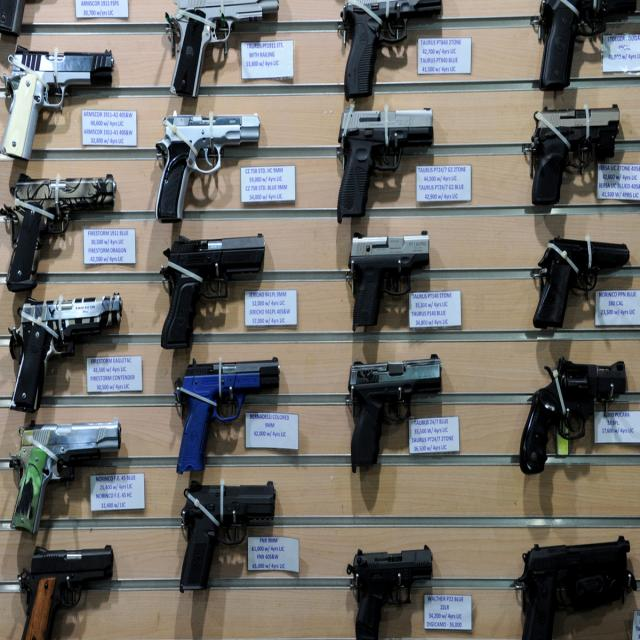gun: (160, 230, 266, 356), (8, 176, 116, 297), (520, 358, 627, 476), (3, 43, 116, 154), (523, 532, 639, 640), (11, 421, 123, 530), (336, 108, 436, 223), (157, 110, 261, 218), (16, 296, 119, 404), (167, 0, 283, 93), (180, 477, 274, 586), (529, 105, 622, 212), (533, 0, 636, 95), (349, 358, 443, 462), (341, 0, 444, 94), (16, 544, 113, 640), (533, 240, 631, 326), (350, 230, 431, 333), (347, 545, 431, 637)
